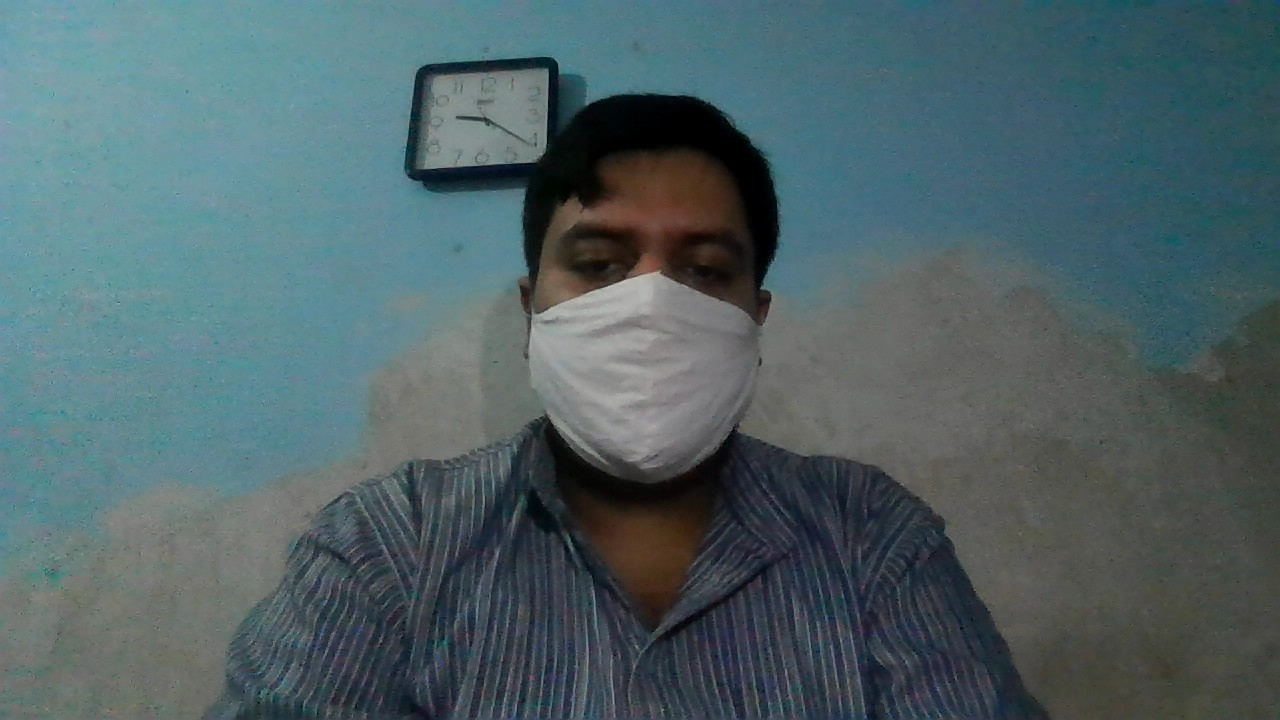Mask: (513, 273, 777, 488)
